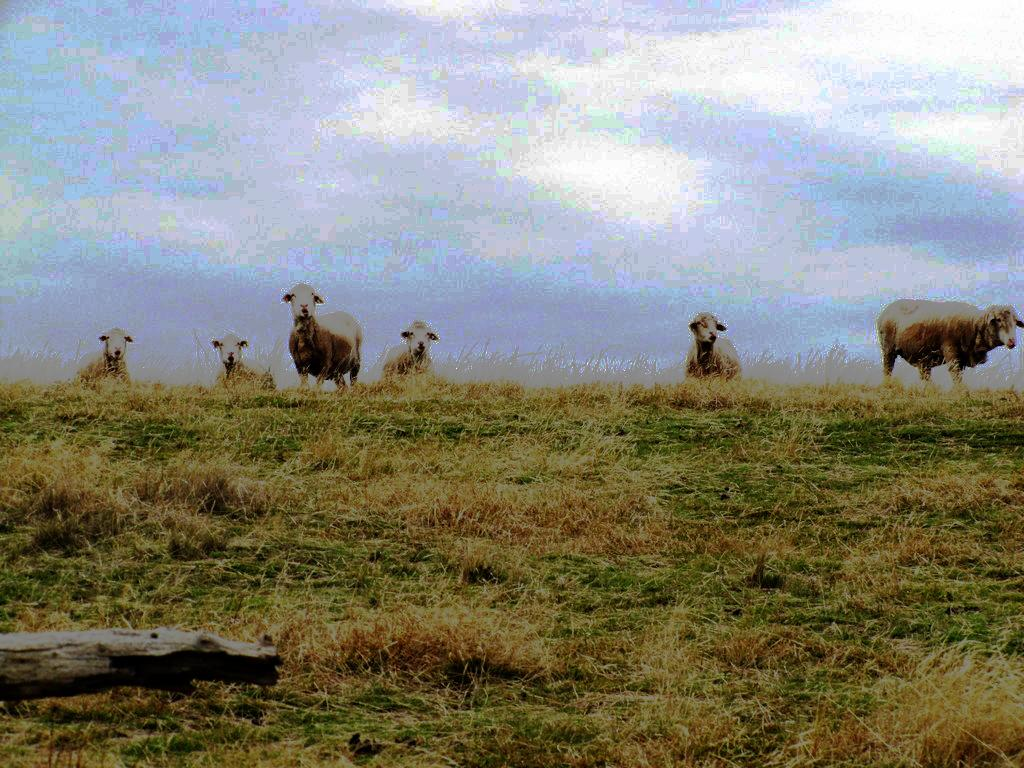Sheep: (876, 300, 1024, 382), (281, 285, 363, 388), (679, 311, 746, 379), (214, 333, 276, 384), (80, 328, 131, 382), (379, 324, 436, 370)
